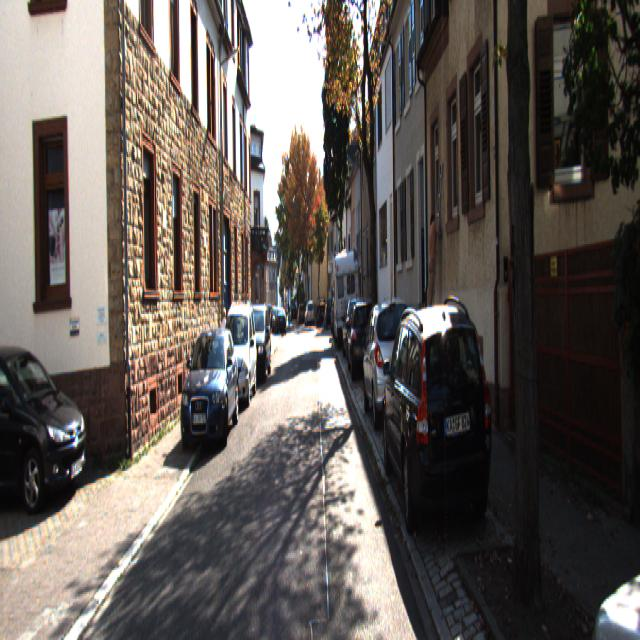Car: (378, 298, 502, 560), (576, 334, 640, 638), (0, 338, 91, 517), (176, 324, 239, 458), (361, 293, 417, 434), (216, 300, 258, 412), (332, 251, 361, 351), (343, 298, 376, 385), (242, 304, 272, 387), (339, 300, 370, 366), (274, 310, 288, 337), (323, 300, 335, 331)
